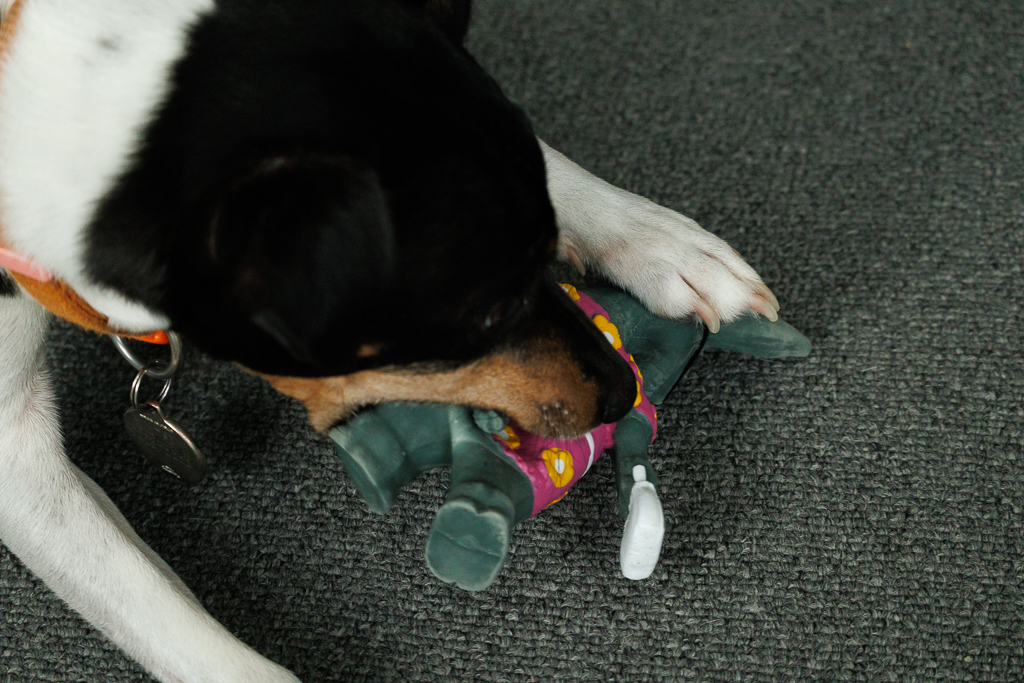Dog: (0, 0, 787, 683)
Humanoid: (308, 243, 821, 606)
